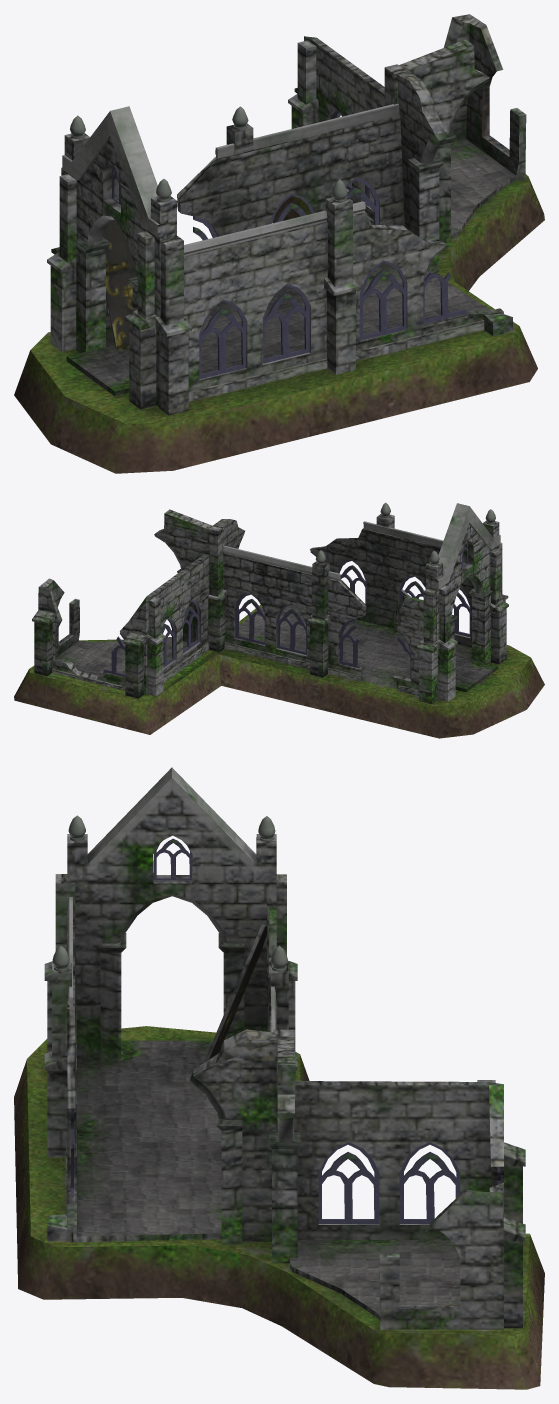
Rendered from Ruins-1.FBX.
3 views of the same model, one above another, from view 1: azimuth 30°, elevation 25°; view 2: azimuth 150°, elevation 25°; view 3: azimuth 270°, elevation 25° (orthographic). The views are drawn at different scales.
Parts seen in each view (by area): view 1: Ruins-1; view 2: Ruins-1; view 3: Ruins-1.
Part boxes in pixels (<box>): Ruins-1: <box>14,14,544,473</box>; Ruins-1: <box>14,502,544,738</box>; Ruins-1: <box>14,767,544,1389</box>.
Size of the model in its own units: 1043 by 498 by 716.
